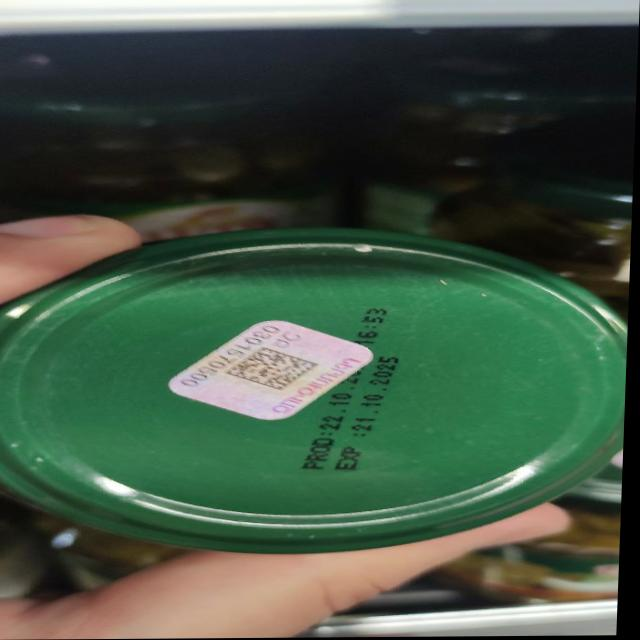datamatrix: (225, 346, 325, 391)
